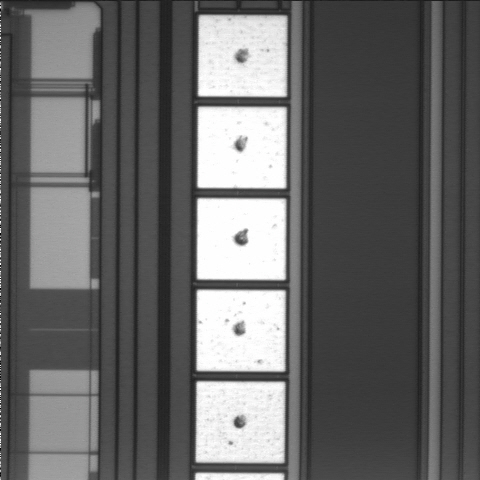pad: (197, 107, 287, 189), (198, 15, 287, 97), (197, 198, 286, 280), (196, 381, 285, 463), (197, 290, 286, 371)
